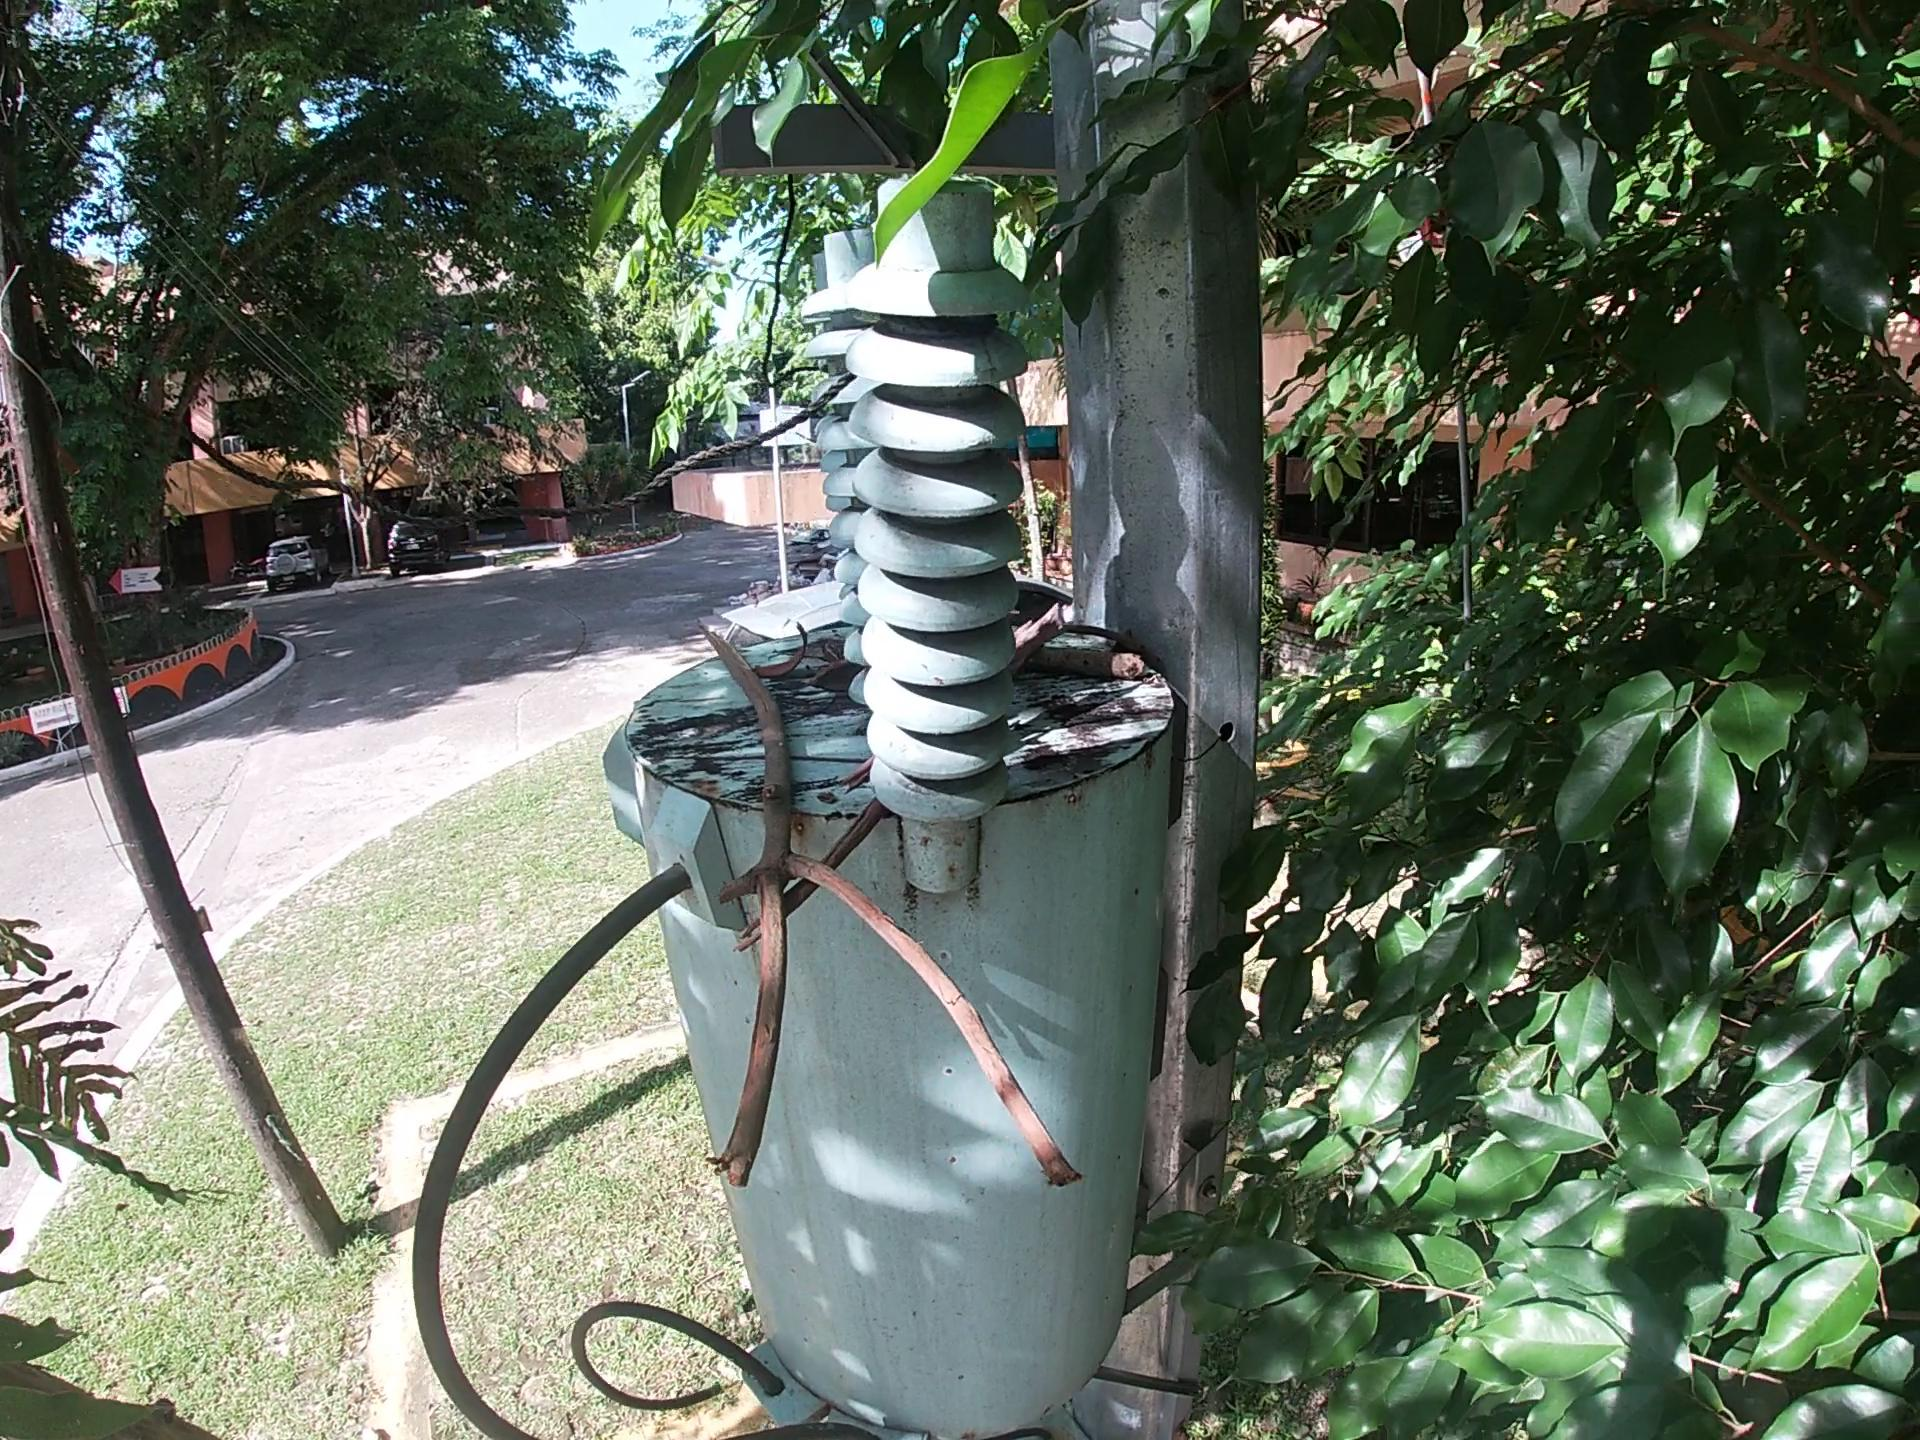mahogany fruit: (813, 650, 874, 703), (757, 625, 813, 675)
tree branch: (677, 611, 1084, 1272), (1030, 635, 1160, 684), (1005, 601, 1073, 685), (1058, 628, 1172, 646)
